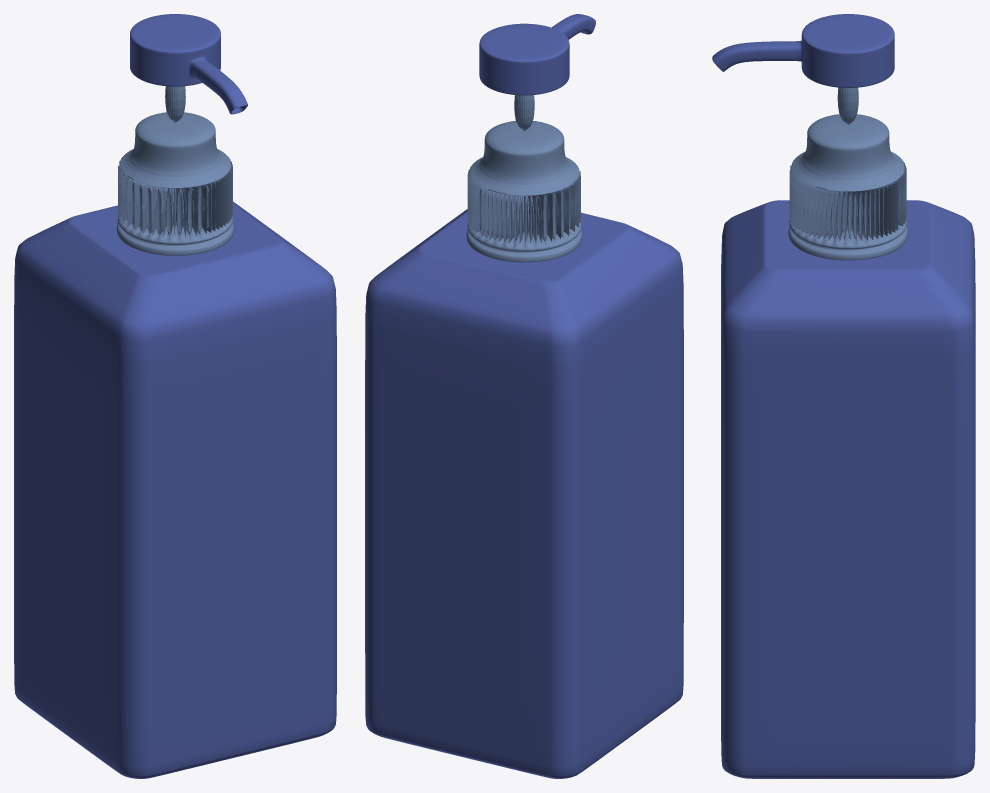
File: bottle.glb
The picture shows the model from 3 angles, left to right: view 1: azimuth 30°, elevation 25°; view 2: azimuth 150°, elevation 25°; view 3: azimuth 270°, elevation 25°; orthographic projection. The views are drawn at different scales.
Parts seen in each view (by area): view 1: Test; view 2: Test; view 3: Test.
Boxes of the visible parts, x1,y1,x2,y2 form: Test: [14, 14, 336, 778]; Test: [365, 14, 683, 778]; Test: [712, 14, 975, 778].
Size of the model in its own units: 0.1084 by 0.3278 by 0.112.
